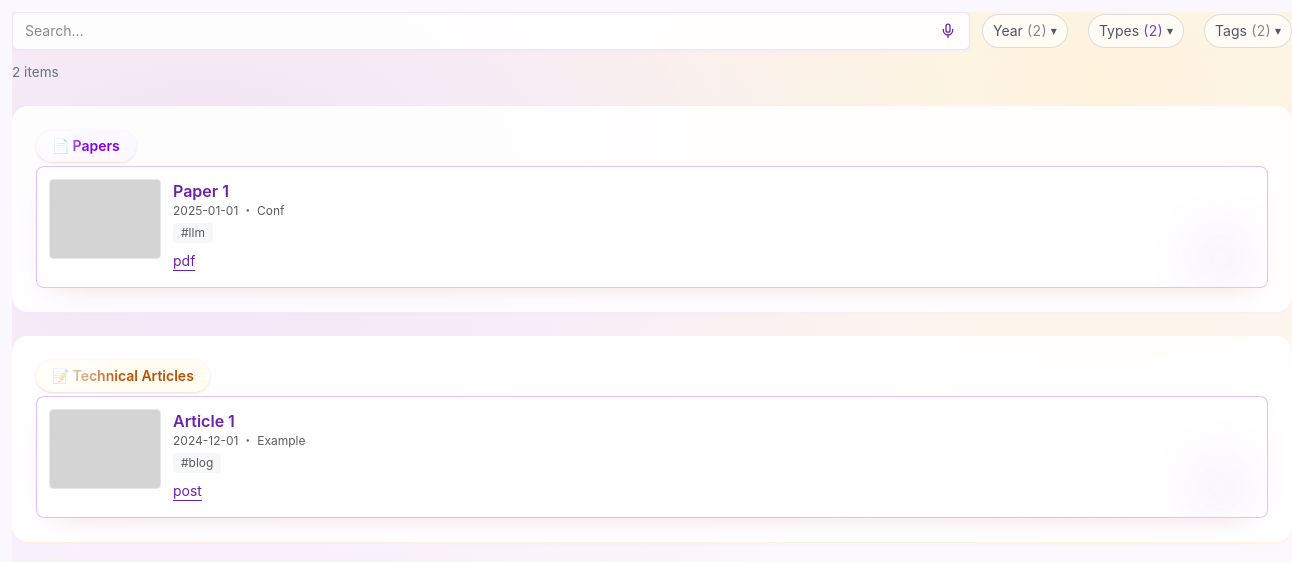
Test case: PublicationsClient › builds type filter options from publication metadata
Click the heading "Types (2) ▾". click: (1136, 31)
box: x1=1088 y1=14 x2=1184 y2=48
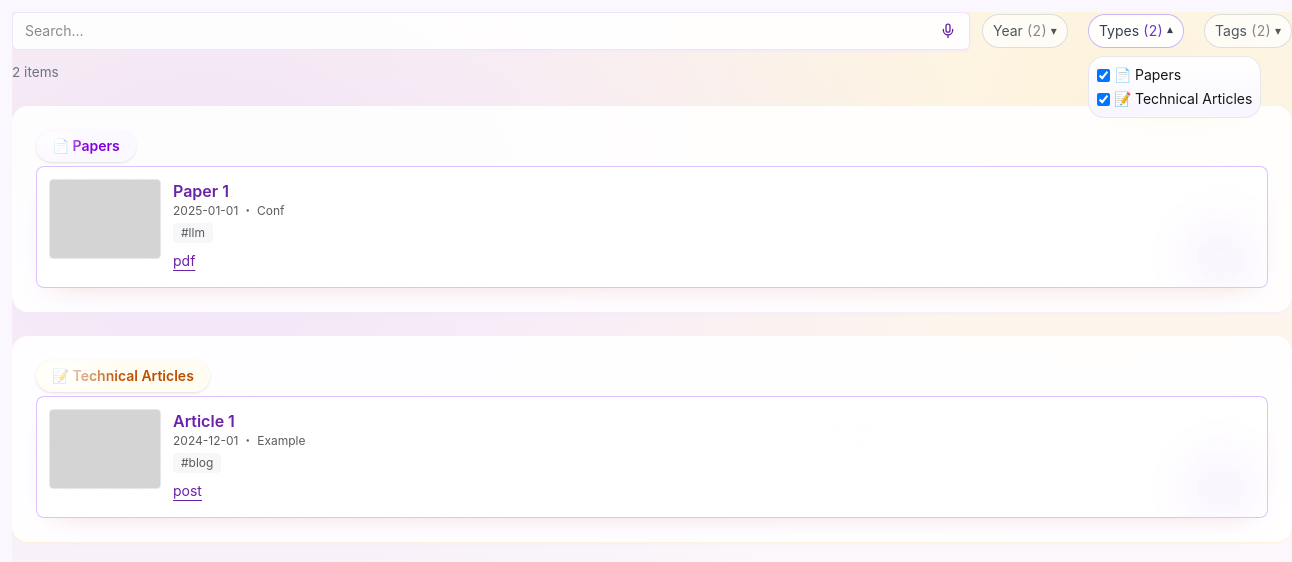
Now the number of checkboxes is 2, box x1=1097 y1=68 x2=1110 y2=82; x1=1097 y1=92 x2=1110 y2=106
Now the text "📄 Papers" is shown, box x1=1097 y1=66 x2=1181 y2=83
Now the text "📝 Technical Articles" is shown, box x1=1097 y1=89 x2=1252 y2=109
